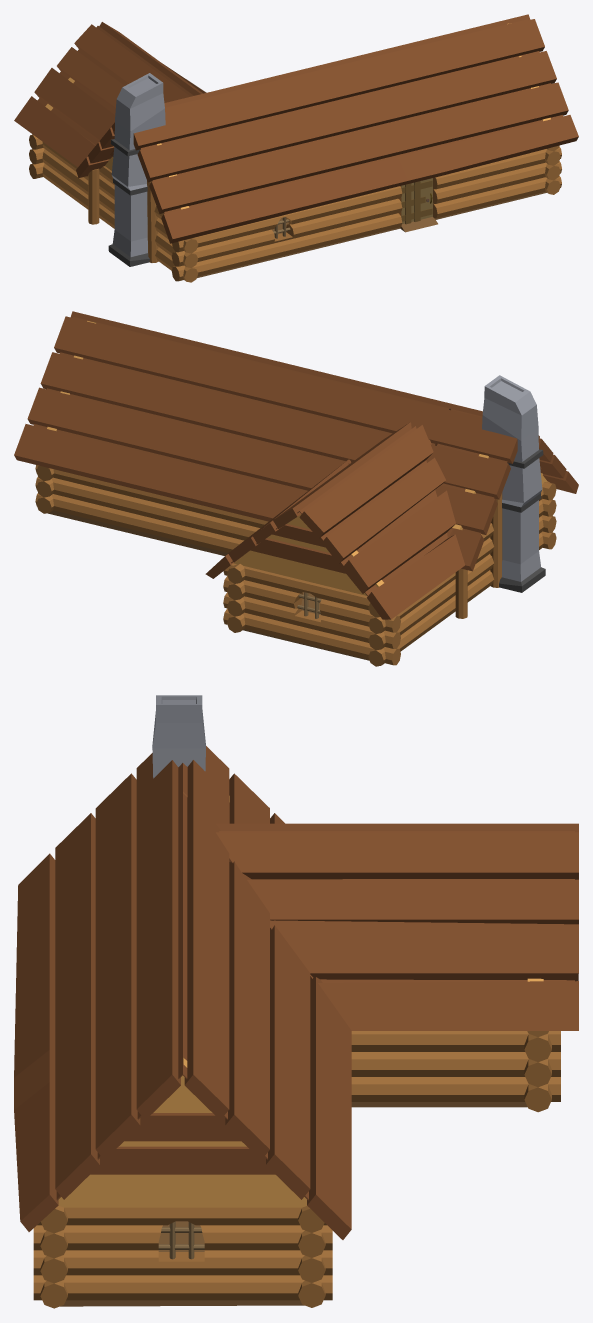
File: Home-cabin-model.fbx
3 renders of one model, top to bottom at view 1: azimuth 30°, elevation 25°; view 2: azimuth 150°, elevation 25°; view 3: azimuth 270°, elevation 25°, orthographic. The views are drawn at different scales.
Visible parts, largest first — view 1: Roof, Log Wall, Chimney, Log Pillar, Floor, Door Bars, Chimney Joint, Door Board; view 2: Roof, Log Wall, Chimney, under-roof.001, Log Pillar, Floor, Chimney Joint; view 3: Roof, Log Wall, under-roof.001, Chimney, Floor, Window 2.
Part boxes in pixels (x1,y1,x2,y2): Roof: (14,14,578,243); Log Wall: (29,134,561,282); Chimney: (111,73,165,257); Log Pillar: (88,168,158,262); Floor: (197,191,546,277); Door Bars: (401,180,432,224); Chimney Joint: (108,139,149,266); Door Board: (401,178,433,224); Roof: (14,311,578,619); Log Wall: (35,465,556,666); Chimney: (482,375,542,581); under-roof.001: (47,321,547,595); Log Pillar: (455,493,502,618); Floor: (48,510,369,660); Chimney Joint: (499,449,545,592); Roof: (14,746,578,1239); Log Wall: (33,1031,560,1308); under-roof.001: (58,796,543,1207); Chimney: (152,695,205,778); Floor: (60,1102,527,1306); Window 2: (158,1221,204,1259).
Bounding box in the file's own units: 1784 × 724 × 1228.
